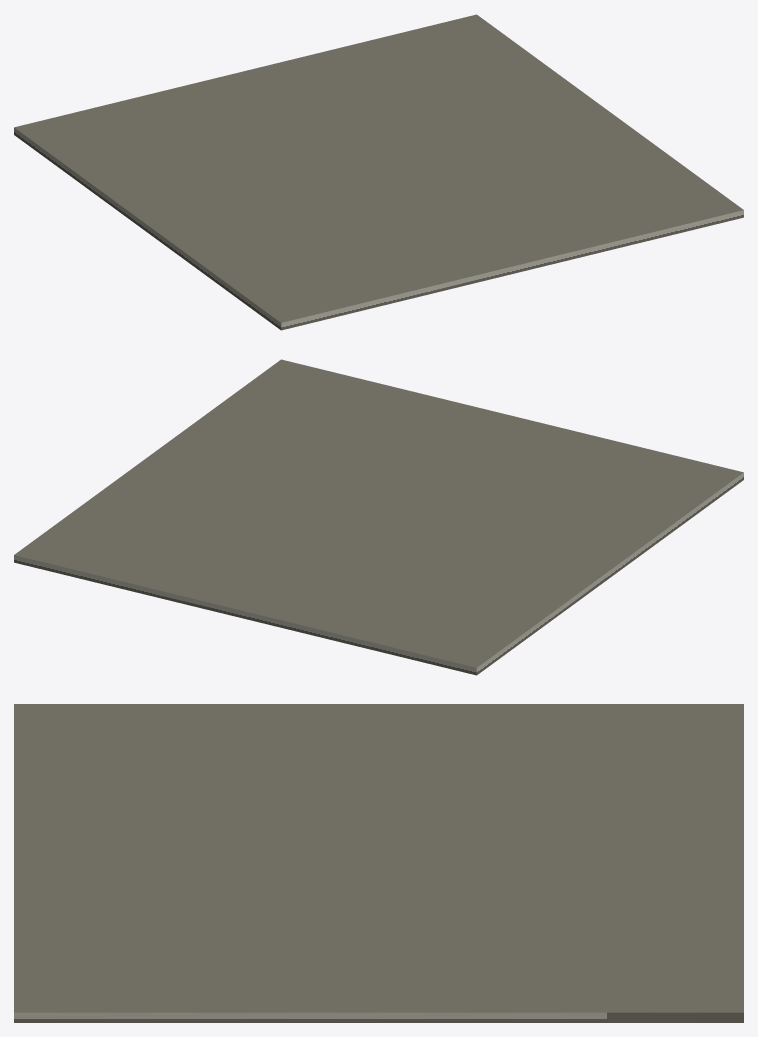
File: ceiling_4a.glb
3 renders of one model, top to bottom at view 1: azimuth 30°, elevation 25°; view 2: azimuth 150°, elevation 25°; view 3: azimuth 270°, elevation 25°, orthographic. The views are drawn at different scales.
Parts seen in each view (by area): view 1: ceiling_edge; view 2: ceiling_edge; view 3: ceiling_edge.
Part boxes in pixels (x1,y1,x2,y2): ceiling_edge: (14,14,743,330); ceiling_edge: (14,359,743,675); ceiling_edge: (14,704,743,1022).
Bounding box in the file's own units: 2 × 0.075 × 2.
1 material, 1 textured.
